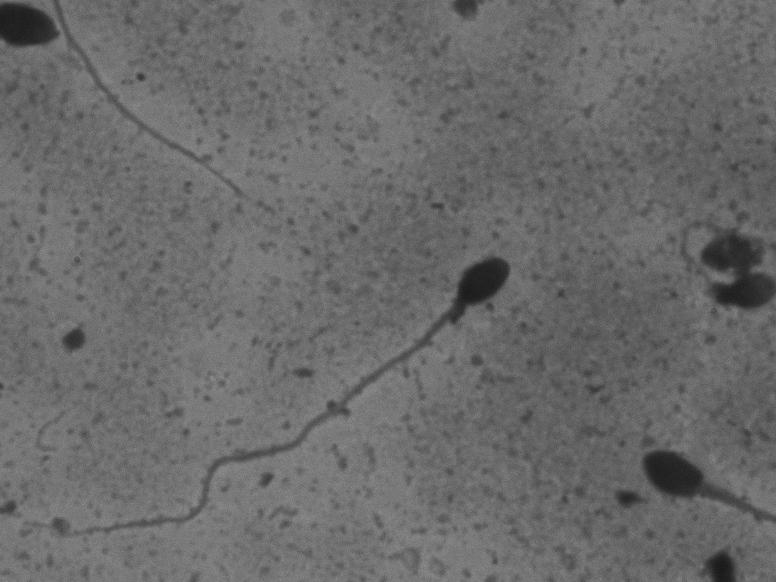Abnormal: (622, 404, 760, 564)
Normal: (36, 241, 528, 558)
